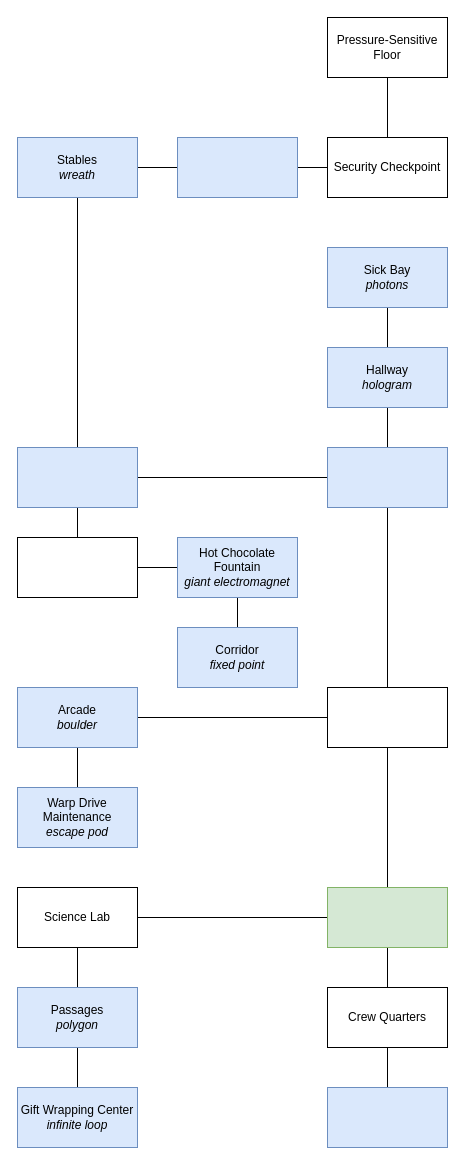
Some shapes in this 465 by 1165 pixel diagram are drawn without their labels. The centre of each missing label's shape, as x and y in pixels:
"Engineering molten lava" belongs at [237,167].
"Holodeck fuel cell" belongs at [77,477].
"Hull Breach" belongs at [387,917].
"Kitchen" belongs at [77,567].
"Navigation" belongs at [387,717].
"Observatory manifold" belongs at [387,477].
"Storage tambourine" belongs at [387,1117].
